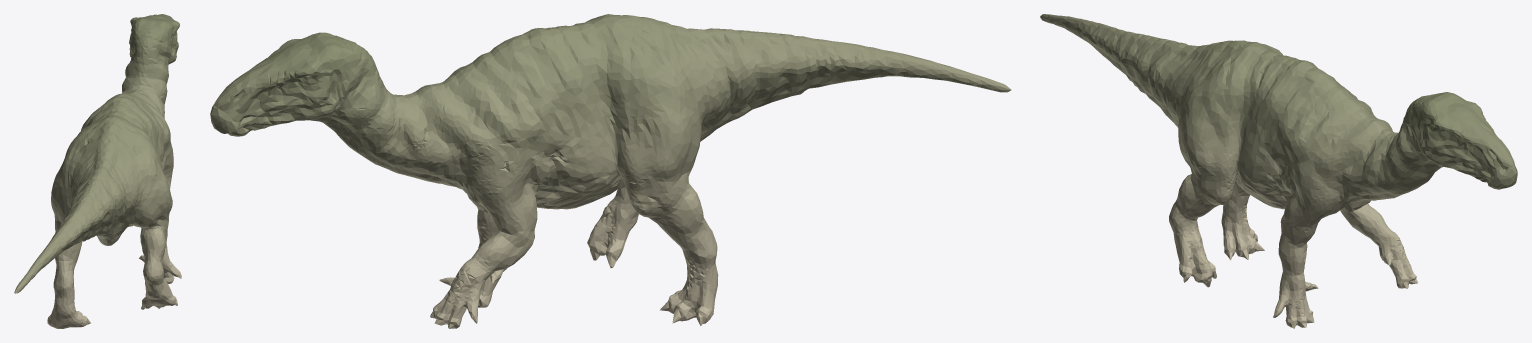
The model's file is iguanodon.glb.
The picture shows the model from 3 angles, left to right: view 1: azimuth 30°, elevation 25°; view 2: azimuth 150°, elevation 25°; view 3: azimuth 270°, elevation 25°; orthographic projection. The views are drawn at different scales.
Visible parts, largest first — view 1: world; view 2: world; view 3: world.
Boxes of the visible parts, bbox=[...] form: world: bbox=[14, 14, 181, 328]; world: bbox=[210, 14, 1011, 328]; world: bbox=[1040, 14, 1517, 328].
Bounding box in the file's own units: 10 × 5.71 × 9.64.
